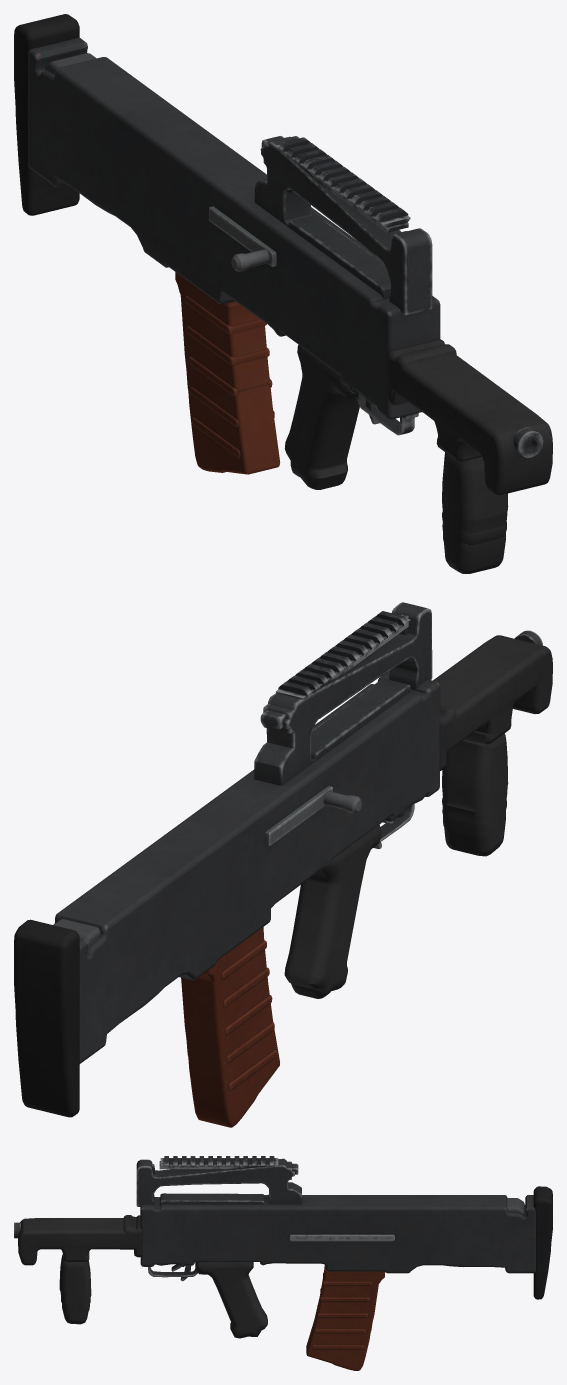
Rendered from ar_groza.glb.
3 views of the same model, one above another, from view 1: azimuth 30°, elevation 25°; view 2: azimuth 150°, elevation 25°; view 3: azimuth 270°, elevation 25° (orthographic). The views are drawn at different scales.
Visible parts, largest first — view 1: body, mag_mesh, bolt_mesh; view 2: body, mag_mesh, bolt_mesh; view 3: body, mag_mesh.
Part boxes in pixels (x1=…): body: x1=14, y1=14, x2=552, y2=573; mag_mesh: x1=175, y1=272, x2=280, y2=474; bolt_mesh: x1=209, y1=206, x2=276, y2=271; body: x1=14, y1=602, x2=552, y2=1117; mag_mesh: x1=181, y1=927, x2=279, y2=1127; bolt_mesh: x1=265, y1=786, x2=361, y2=846; body: x1=14, y1=1156, x2=552, y2=1338; mag_mesh: x1=306, y1=1264, x2=384, y2=1370.
Size of the model in its own units: 0.066 by 0.2613 by 0.614.
Materials: 1 (1 with a texture image).
